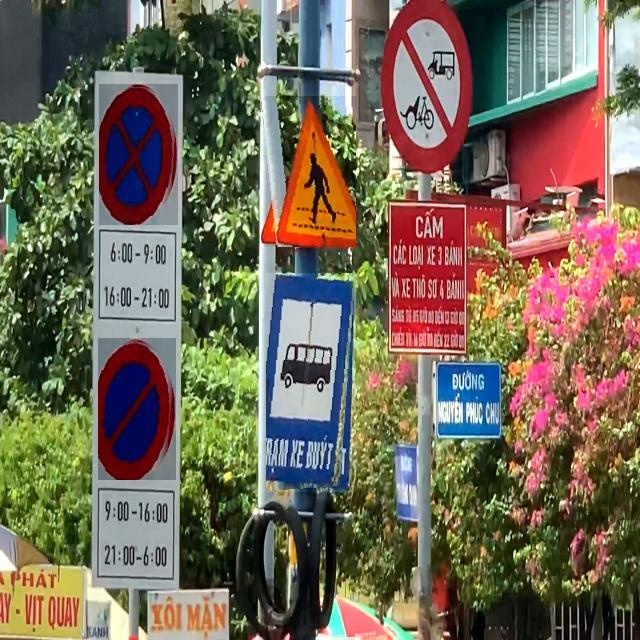bien_cam: (266, 273, 356, 492), (260, 96, 356, 247), (98, 338, 176, 481), (99, 84, 178, 225)
